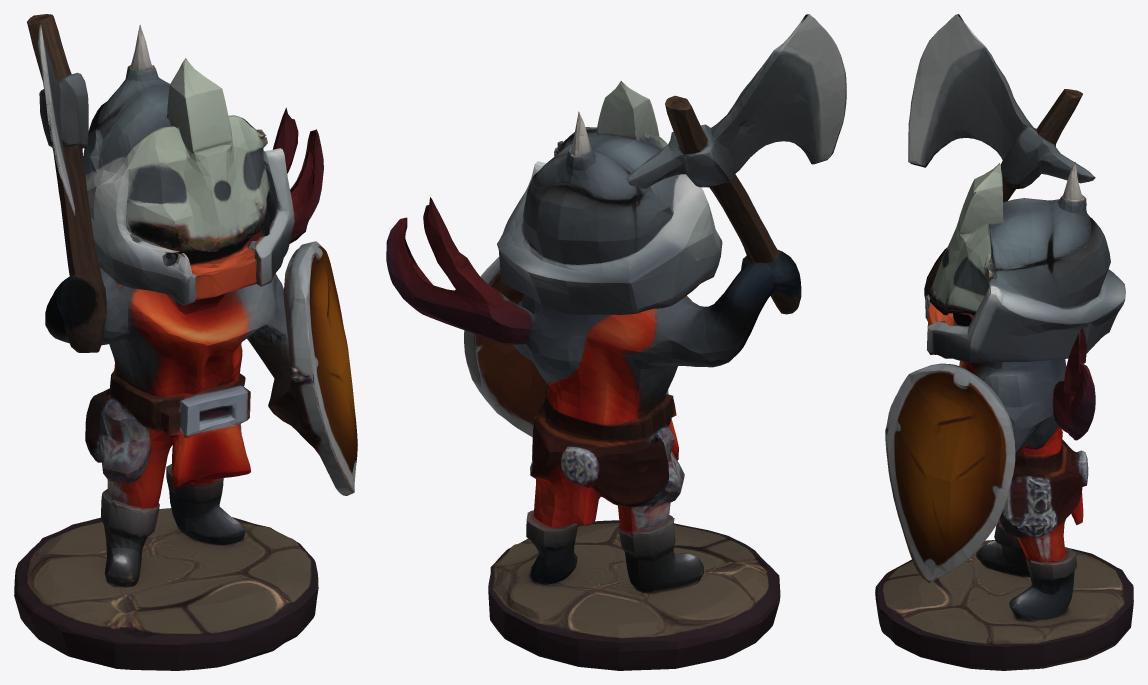
Rendered from ancientFighter_edit.glb.
3 views of the same model, side by side, from view 1: azimuth 30°, elevation 25°; view 2: azimuth 150°, elevation 25°; view 3: azimuth 270°, elevation 25° (orthographic). The views are drawn at different scales.
Visible parts, largest first — view 1: world; view 2: world; view 3: world.
Boxes of the visible parts, x1=… form: world: x1=14, y1=14, x2=357, y2=670; world: x1=386, y1=14, x2=846, y2=670; world: x1=875, y1=14, x2=1133, y2=670.
Size of the model in its own units: 0.6045 by 0.9917 by 0.4274.
1 material, 1 textured.
